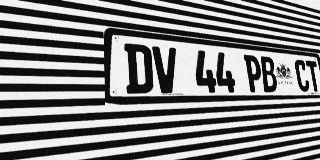4: (193, 50, 217, 93), (214, 52, 236, 93)
B: (259, 56, 278, 92)
C: (294, 59, 310, 92)
D: (124, 43, 154, 94)
P: (243, 54, 264, 92)
T: (305, 60, 320, 92)
V: (152, 46, 179, 93)
